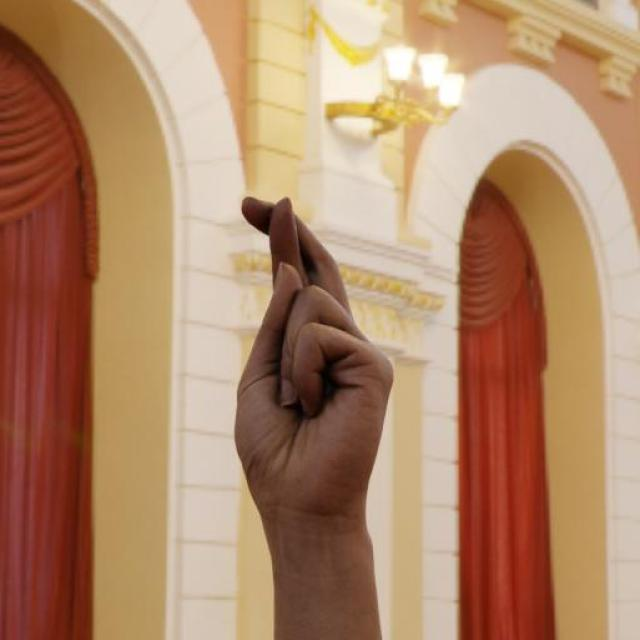R: (230, 189, 403, 530)
